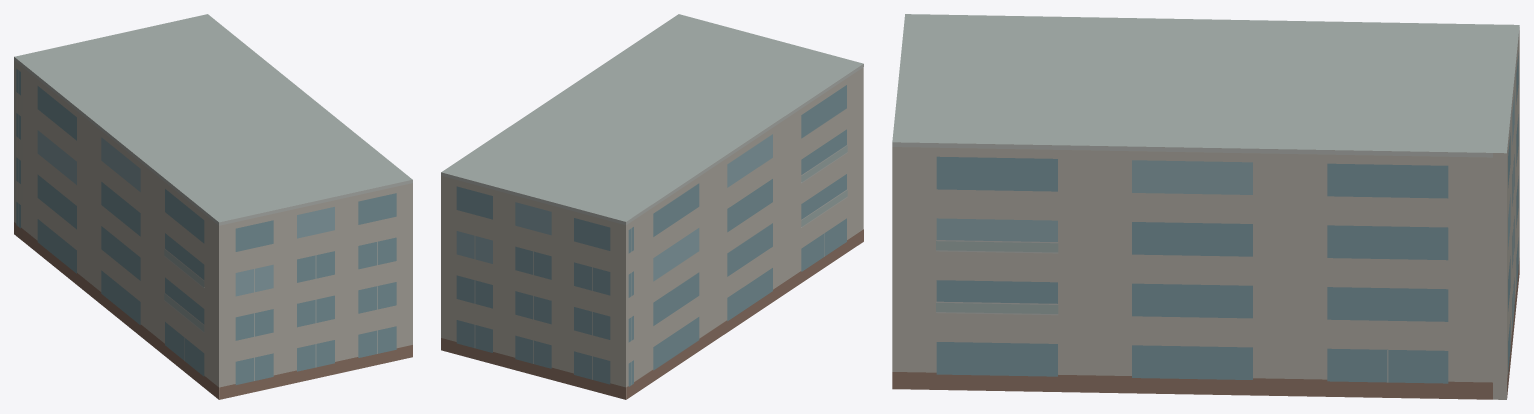
Rendered from survey-upis-32810022.glb.
3 renders of one model, left to right at view 1: azimuth 30°, elevation 25°; view 2: azimuth 150°, elevation 25°; view 3: azimuth 270°, elevation 25°, orthographic. The views are drawn at different scales.
Parts seen in each view (by area): view 1: survey-upis-32810022.tmp; view 2: survey-upis-32810022.tmp; view 3: survey-upis-32810022.tmp.
Part boxes in pixels (x1,y1,x2,y2): survey-upis-32810022.tmp: (14, 14, 412, 399); survey-upis-32810022.tmp: (441, 14, 863, 399); survey-upis-32810022.tmp: (892, 14, 1519, 399).
Bounding box in the file's own units: 15.61 × 12.9 × 29.74.
